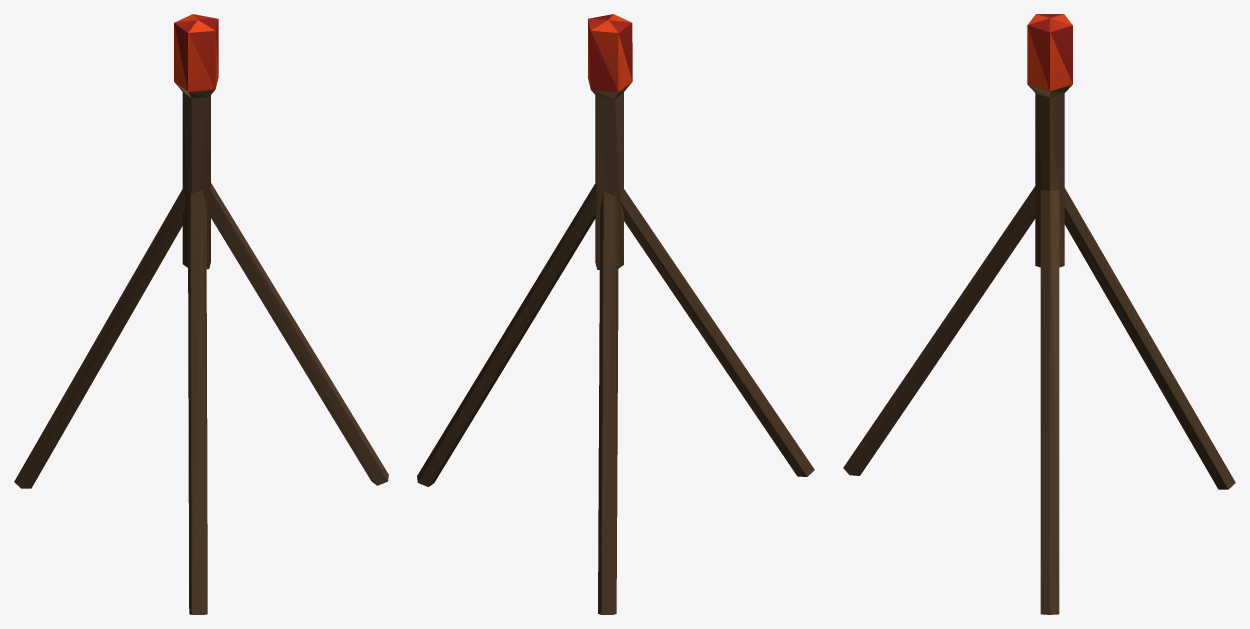
File: Torch_Wood_Lod1.fbx
3 views of the same model, side by side, from view 1: azimuth 30°, elevation 25°; view 2: azimuth 150°, elevation 25°; view 3: azimuth 270°, elevation 25° (orthographic).
Parts seen in each view (by area): view 1: polySurface1077; view 2: polySurface1077; view 3: polySurface1077.
Part boxes in pixels (box(x1,y1,x2,y2)): polySurface1077: box(14, 14, 388, 614); polySurface1077: box(417, 14, 814, 614); polySurface1077: box(843, 14, 1235, 614).
Size of the model in its own units: 193 by 317 by 220.
Materials: 1 (1 with a texture image).
